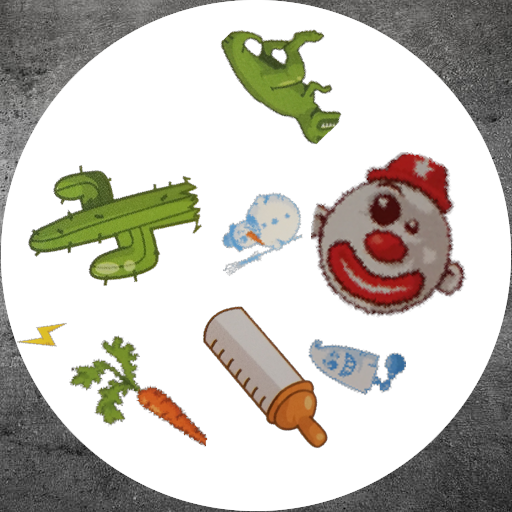bottle_icon: (180, 292, 355, 467)
cactus_icon: (25, 132, 212, 319)
carrot_icon: (69, 313, 217, 461)
clown_icon: (311, 152, 482, 323)
dino_icon: (206, 16, 346, 156)
ghost_icon: (304, 313, 406, 415)
lightning_icon: (17, 310, 67, 360)
snowman_icon: (211, 189, 309, 287)
